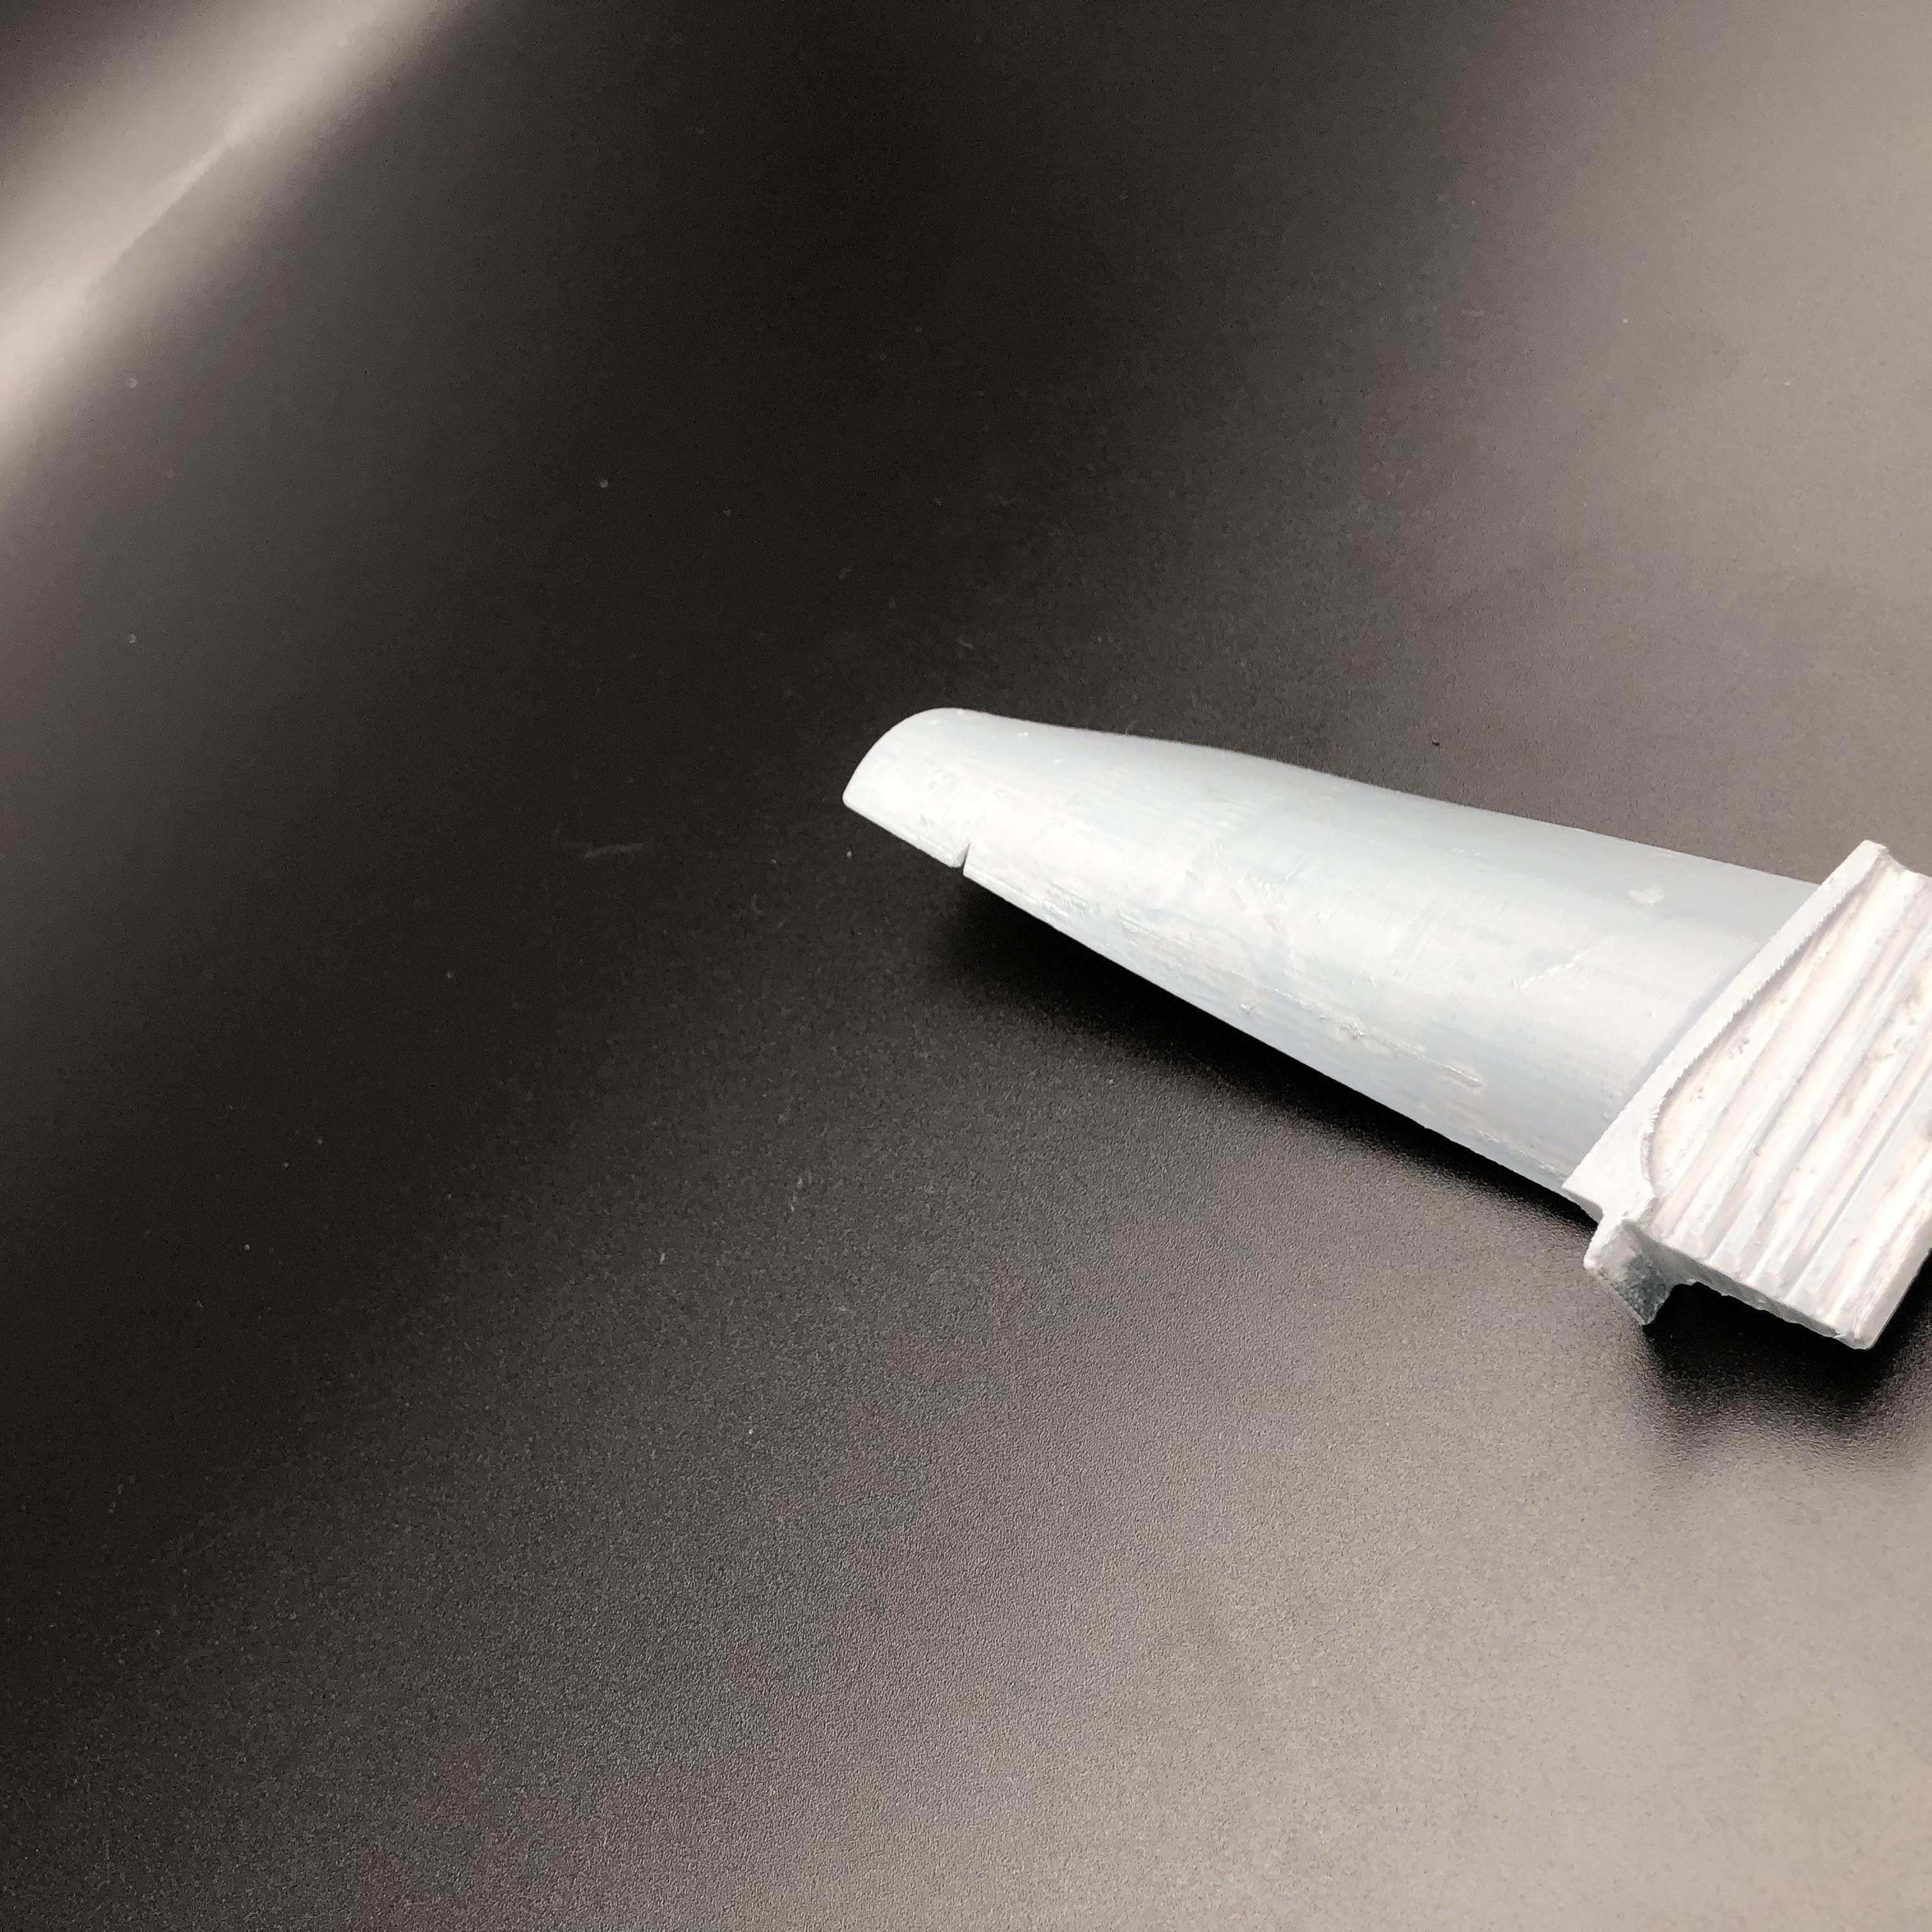groove: (947, 842, 982, 876)
